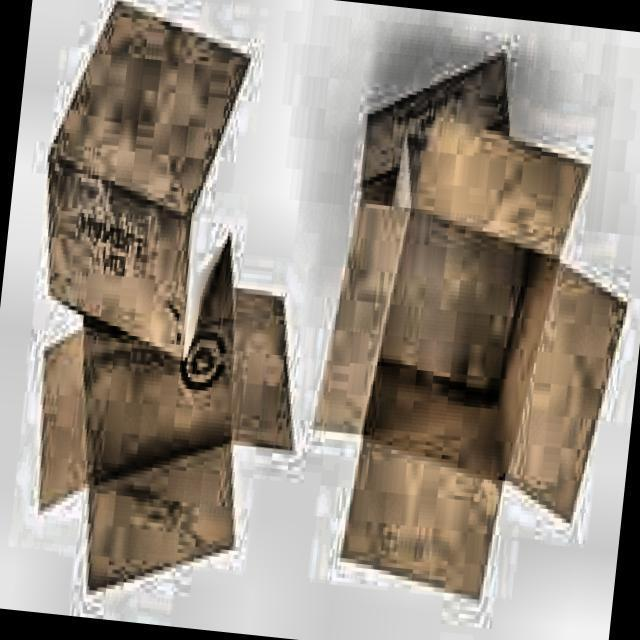cardboard: (0, 0, 336, 621), (292, 36, 640, 619)
